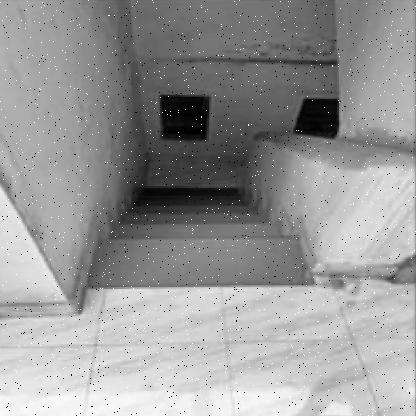stair_down: (95, 162, 288, 245)
